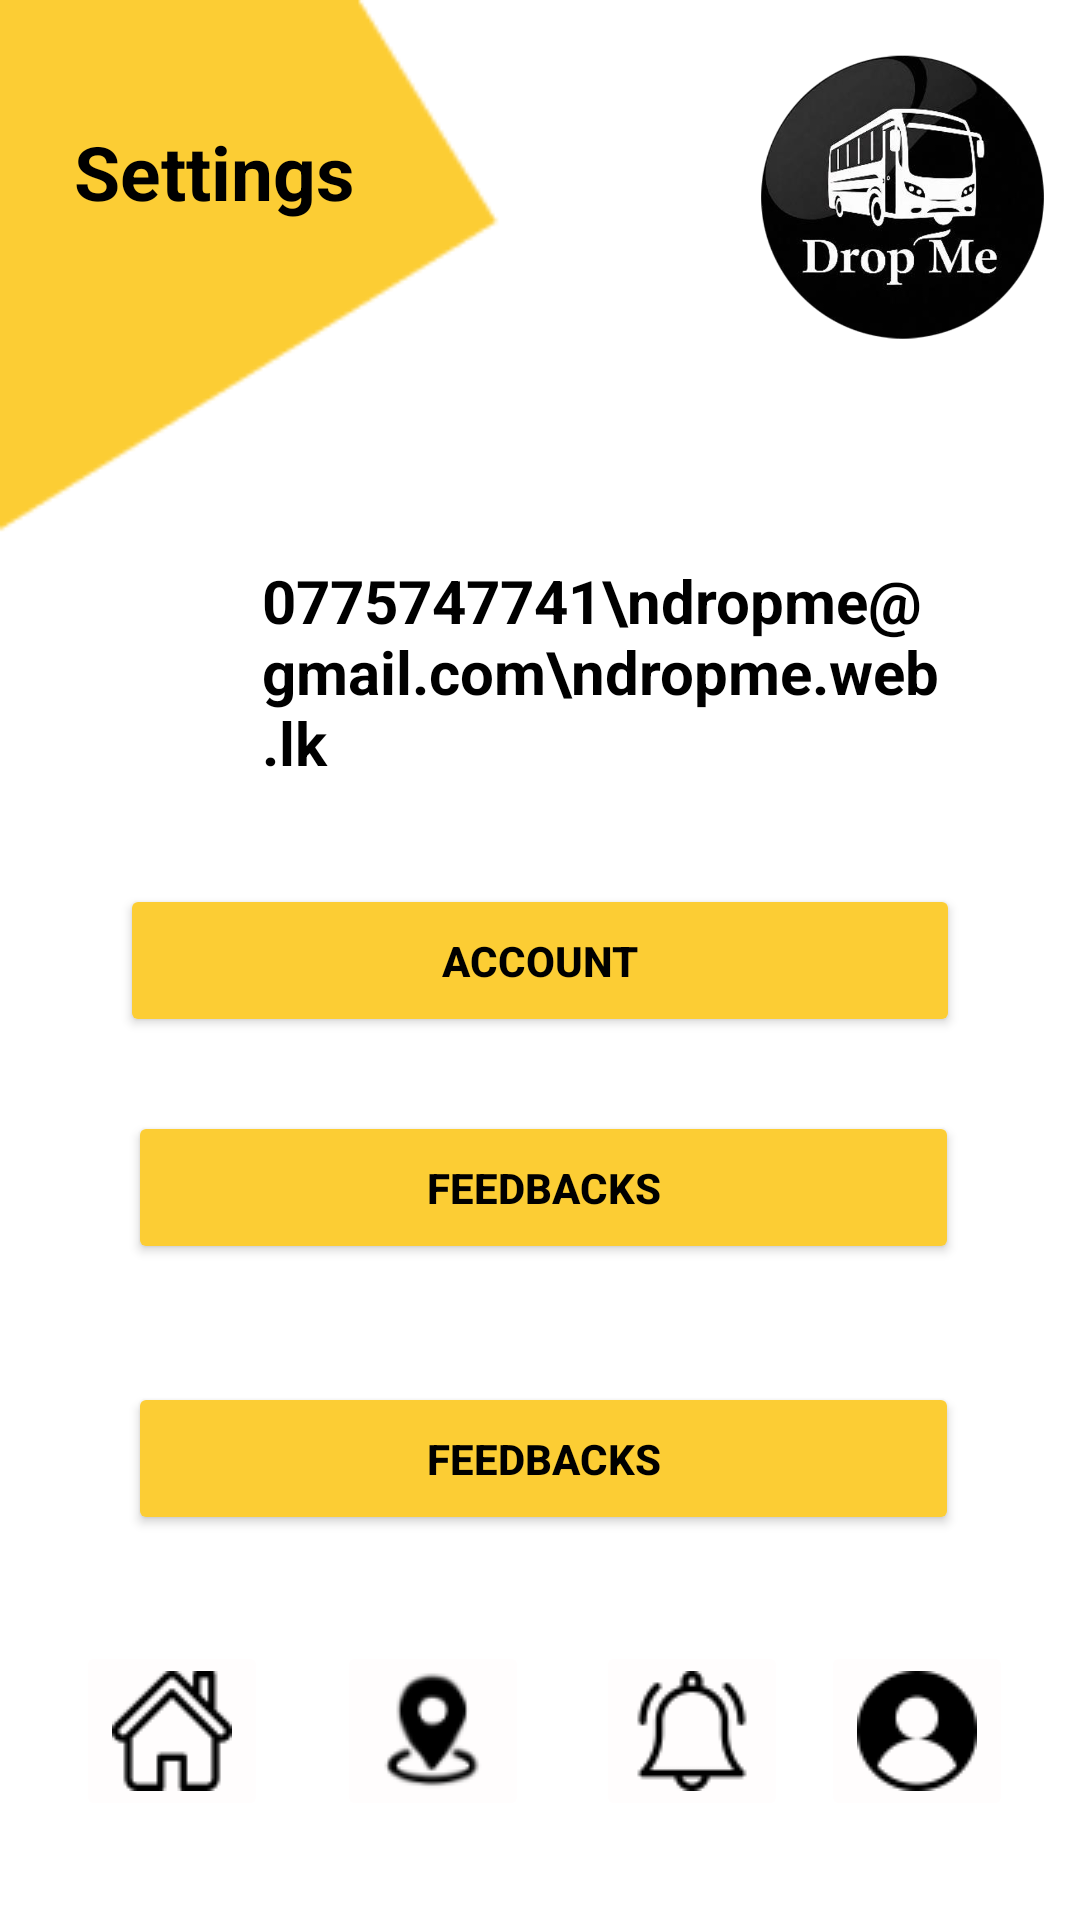

Point at icon controls on the screen. Image size 1080px x 1920px, points as [x,y].
belb: [692,1731]
homeb: [172,1731]
userb: [917,1731]
